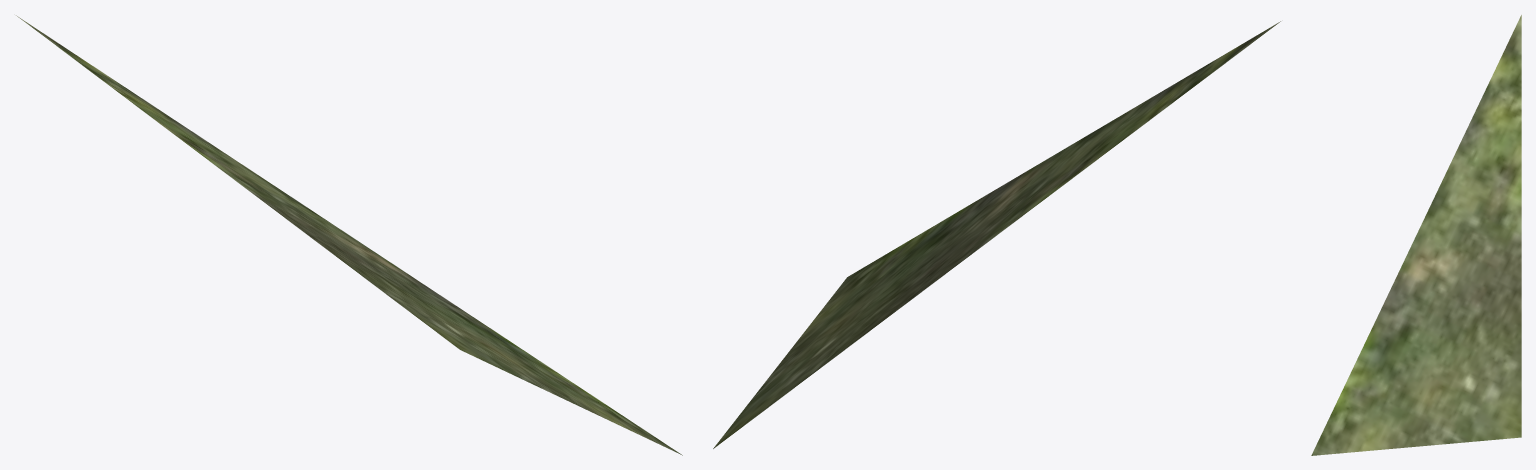
3 renders of one model, left to right at view 1: azimuth 30°, elevation 25°; view 2: azimuth 150°, elevation 25°; view 3: azimuth 270°, elevation 25°, orthographic. The views are drawn at different scales.
Size of the model in its own units: 1.49 by 1.26 by 0.8435.
1 material, 1 textured.
